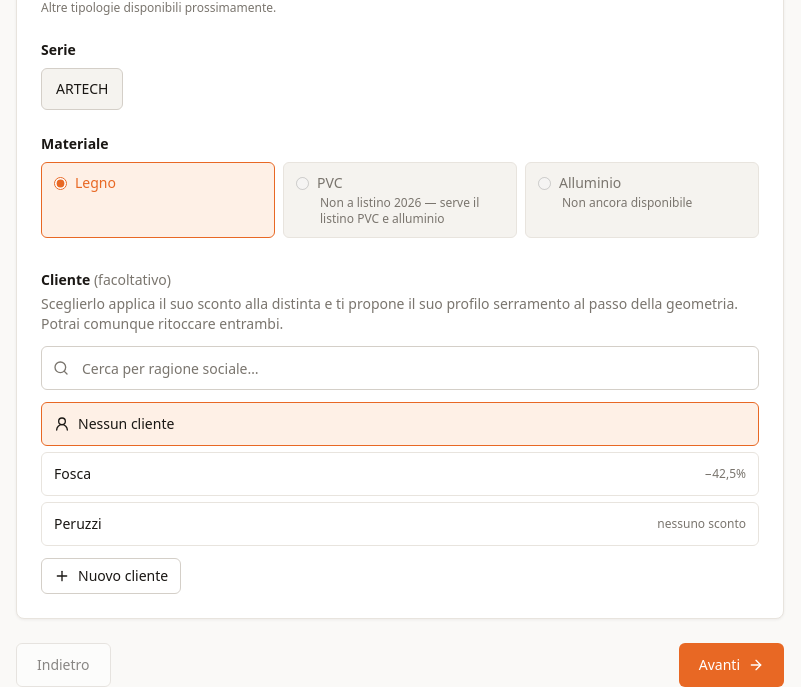
NuovaRichiestaClient › sede 30: visibile ma non selezionabile, con la ragione a schermo
(page scrolled)
Click the button "Avanti": (731, 665) [679,643,784,686]
(page scrolled)
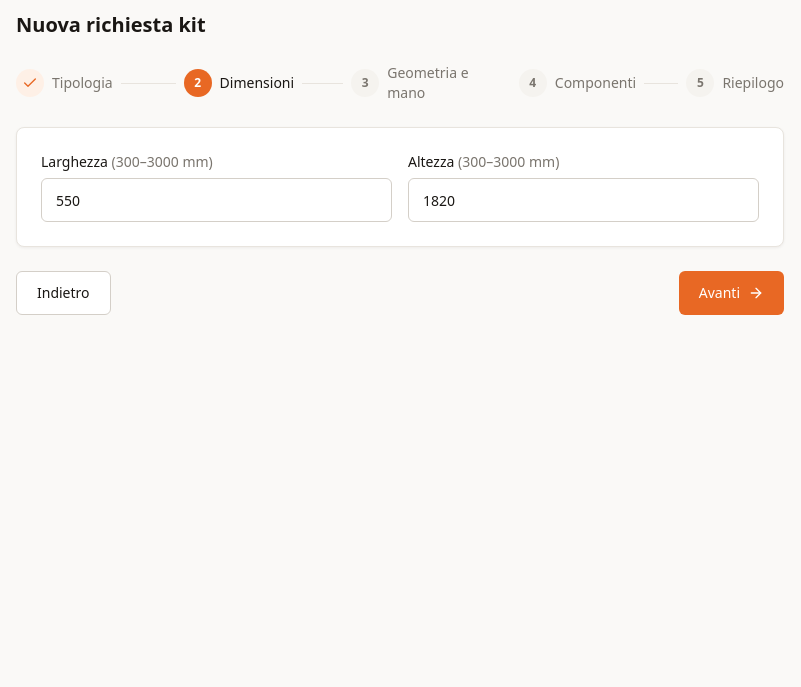
Click the button "Avanti": (731, 293) [679,271,784,315]
(page scrolled)
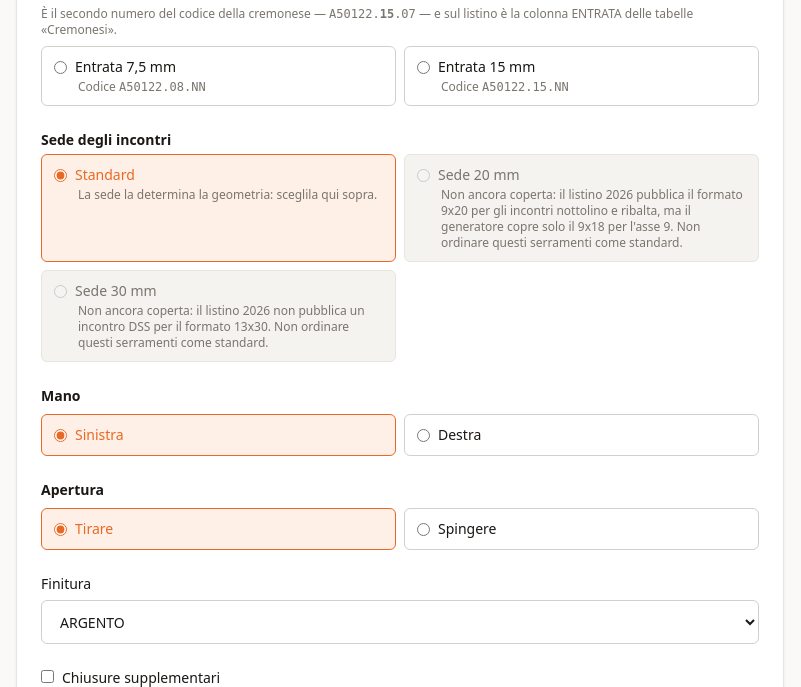
Result: the radio button labelled "Standard" is checked at [54,168,67,182]
Result: the radio button labelled "30 mm" is disabled at [54,284,67,298]
Result: the text "13x30" is shown at [78,302,365,351]
